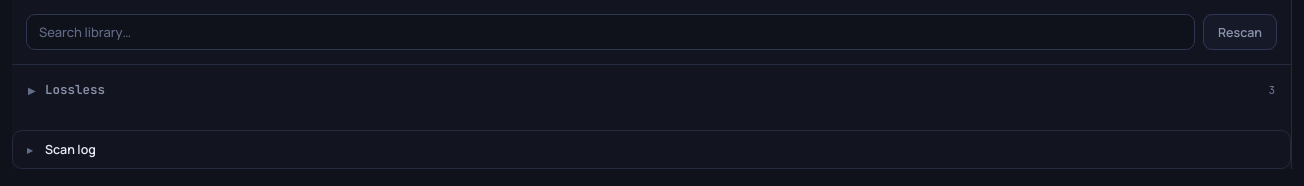
Test: Sidebar search › restates the surviving album count on a pruned folder
Check: the button "▶ Lossless 3" is shown, box [28,81,1275,98]
Type "ferry" into the field labelled "Search library" at (610, 32), box [26,14,1195,50]
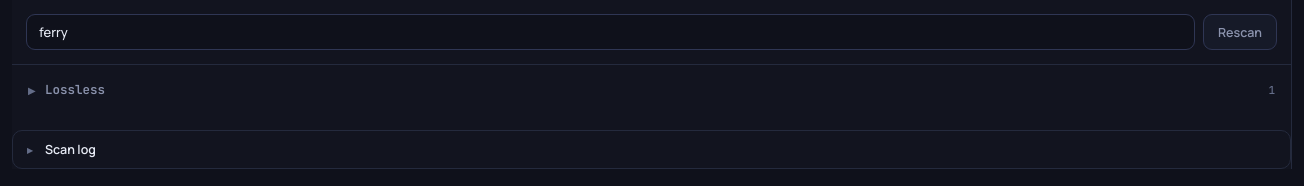
Check: the button "▶ Lossless 1" is shown, box [28,81,1275,98]
